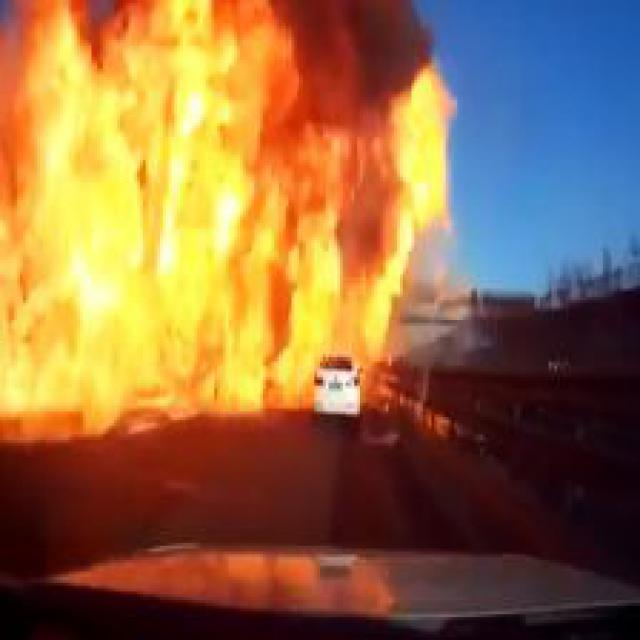fire: (3, 6, 477, 431)
